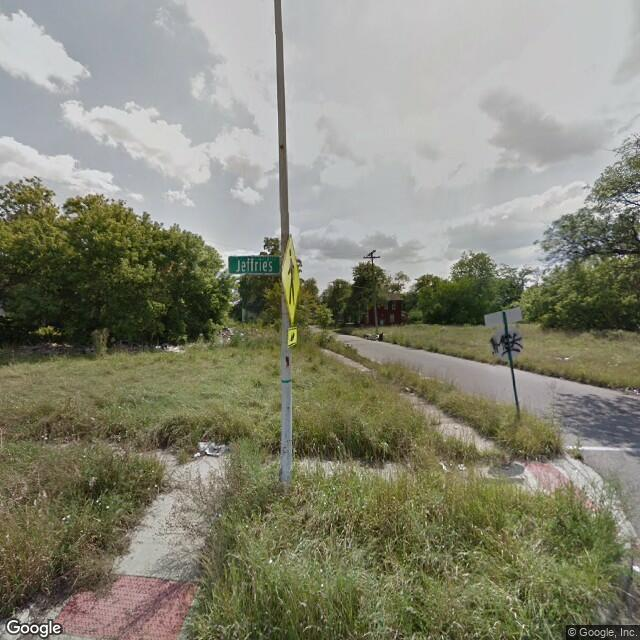litter: (449, 455, 475, 479), (196, 439, 227, 455), (188, 451, 207, 462), (441, 458, 455, 472)
